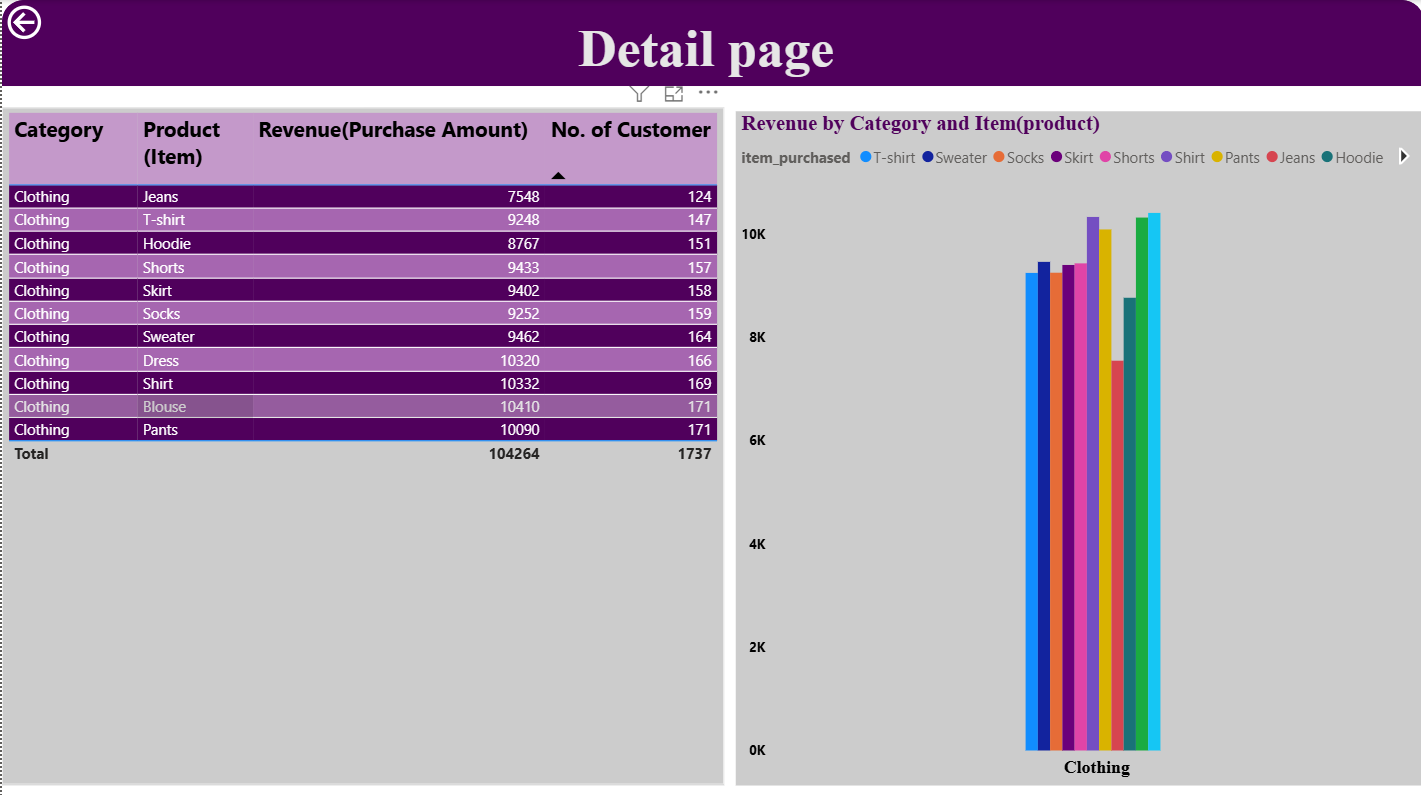

The dashboard page shown, as its layout file describes it:
{"tool":"powerbi","page":{"name":"Detail Page","canvas":[1280,720],"ordinal":1},"visuals":[{"type":"tableEx","fields":{"Values":["customer_behavior customer.category","customer_behavior customer.item_purchased","Sum(customer_behavior customer.purchase_amount)","CountNonNull(customer_behavior customer.customer_id)"]},"box":[0,97.2,651.4,611.1],"z":0},{"type":"clusteredColumnChart","title":"Revenue by Category and Item(product)","fields":{"Category":["customer_behavior customer.category"],"Y":["Sum(customer_behavior customer.purchase_amount)"],"Series":["customer_behavior customer.item_purchased"]},"box":[661.1,100,619.4,608.3],"z":1000},{"type":"shape","box":[0,0,1281.9,77.8],"z":2000},{"type":"actionButton","box":[0,0,100,40.3],"z":3000},{"type":"textbox","box":[226.4,11.1,816.7,66.7],"z":4000}]}

Visuals, with their boxes in screenshot pixels (x1, y1, x2, y2), scaled from the page's 1280x720 canvas onto the 1421x795 screenshot:
tableEx - customer_behavior customer.category x customer_behavior customer.item_purchased: 0, 107, 723, 782
"Revenue by Category and Item(product)" clusteredColumnChart: 734, 110, 1420, 782
shape: 0, 0, 1420, 86
actionButton: 0, 0, 111, 44
textbox: 251, 12, 1158, 86
